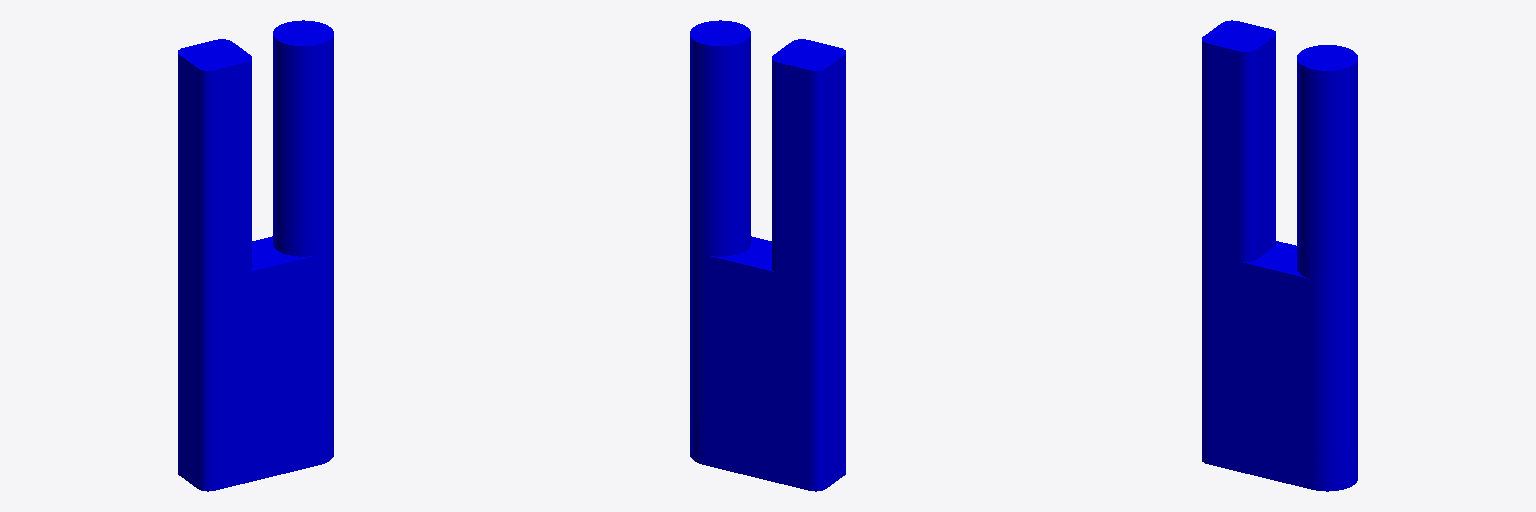
The robot description file, URDF, robot "board2_block13":
<?xml version="1.0"?>
<robot name="board2_block13">
    <link name="board2_block13">
        <visual>
            <origin xyz="0 0 0 " rpy=" 0 0 0"/>
            <geometry>
                <mesh filename="../meshes/SIMO_Board2_Block13.stl" scale="0.001 0.001 0.001"/>
            </geometry>
            <material name="red">
                <color rgba="0.0 0.0 1.0 1.0"/>
            </material>
        </visual>
        <collision>
            <origin xyz="0 0 0" rpy="0 0 0"/>
            <geometry>
                <mesh filename="../meshes/SIMO_Board2_Block13.stl" scale="0.001 0.001 0.001"/>
            </geometry>
        </collision>
    </link>
</robot>

--- Render facts (derived) ---
3 views of the same robot in one strip: view 1: azimuth 30°, elevation 25°; view 2: azimuth 150°, elevation 25°; view 3: azimuth 330°, elevation 25° (orthographic).
Model board2_block13 with 1 links and 0 joints (none), rooted at board2_block13, posed every joint at zero.
Visible links, largest first — view 1: board2_block13; view 2: board2_block13; view 3: board2_block13.
Boxes of the visible links, <box> form: board2_block13: <box>178,20,333,491</box>; board2_block13: <box>690,20,845,491</box>; board2_block13: <box>1202,20,1357,491</box>.
Bounding box of the posed robot: 0.0528 × 0.0198 × 0.15 m (x, y, z).
Meshes: 1 distinct files referenced, 1 mesh visuals loaded (1 ASCII STL).
